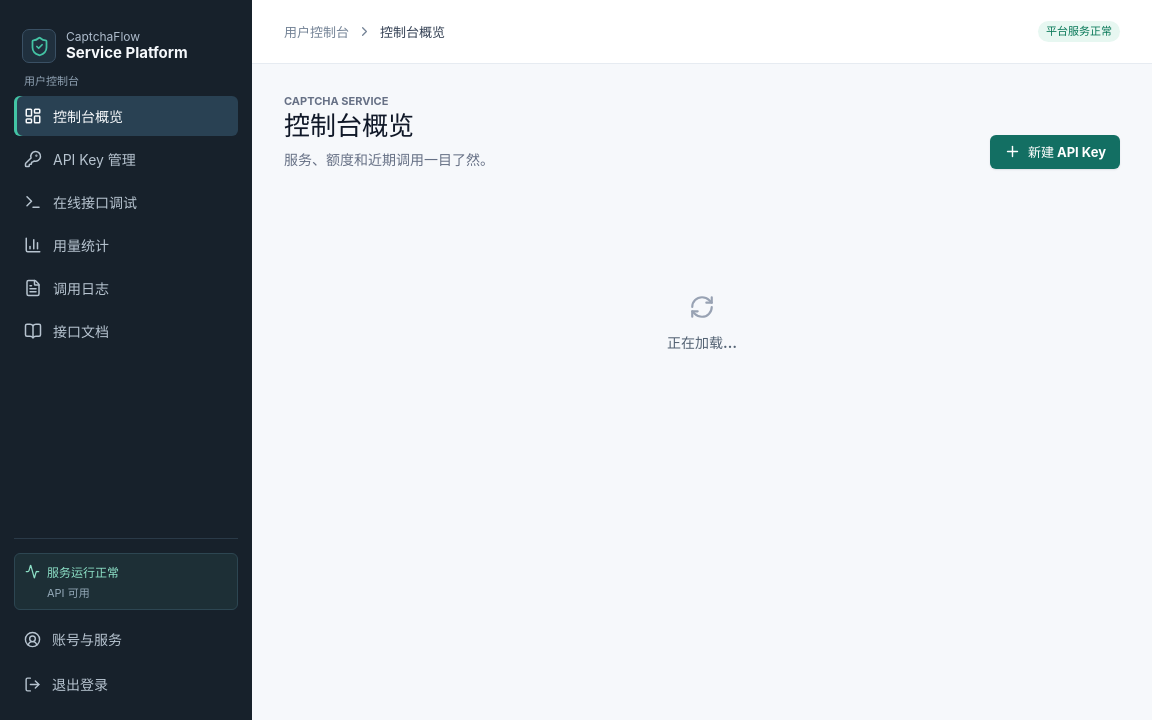
Scenario: App › logs out from the sidebar button and returns to the public home
expect the heading "控制台概览" is shown: met, box [284,110,414,141]
Click the button "退出登录": (126, 684) [14,664,238,704]
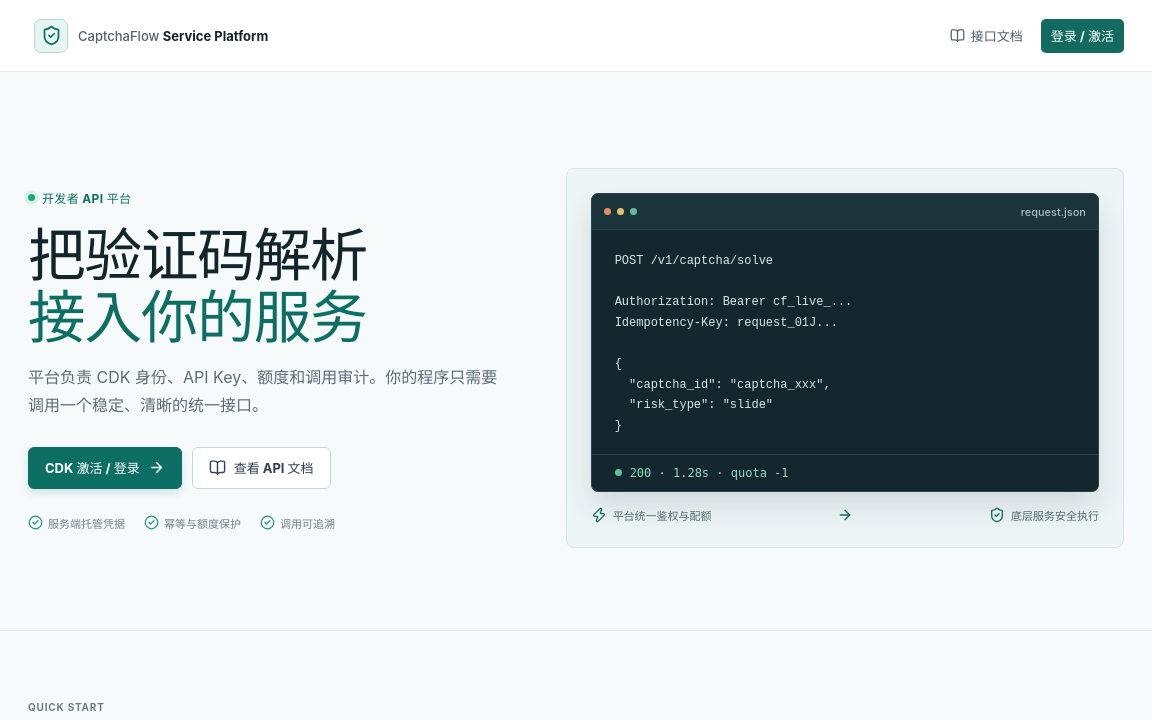
expect the button "登录 / 激活" is shown: met, box [1041,18,1124,52]
